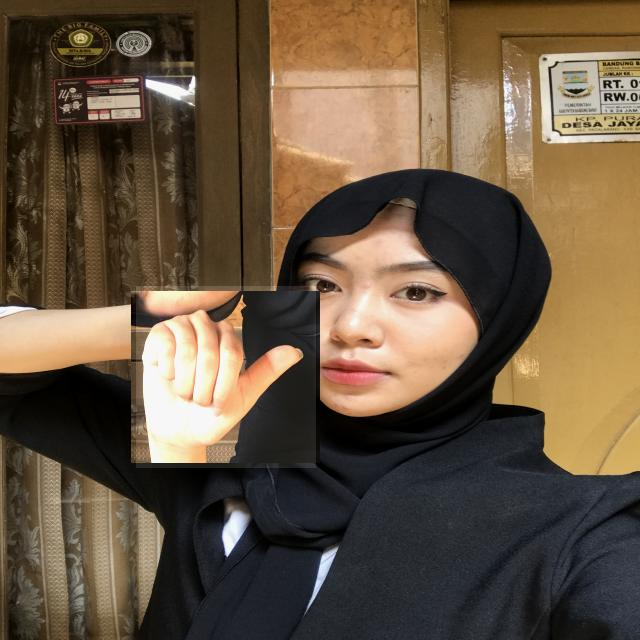sedih: (136, 286, 316, 468)
